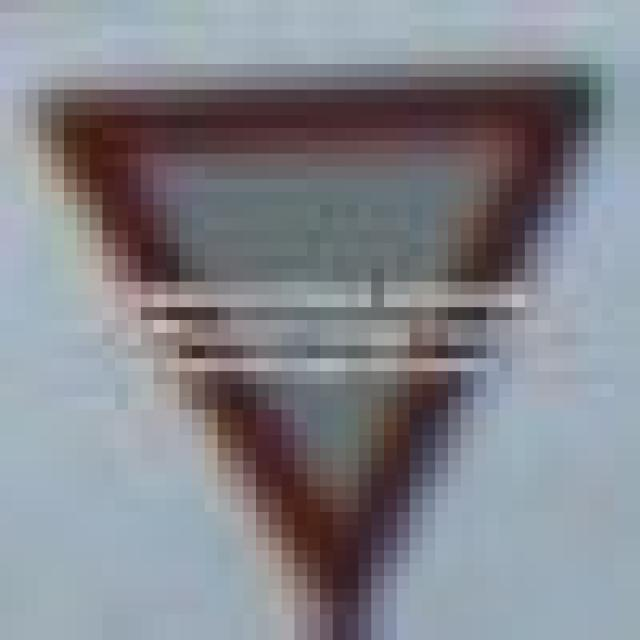gap_in_median: (26, 64, 627, 589)
